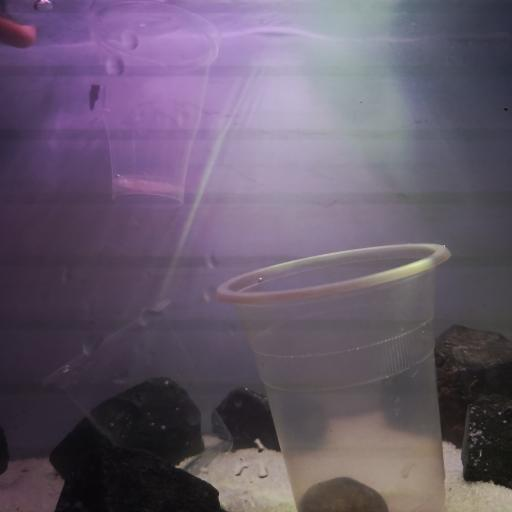plastic_cup: (215, 241, 453, 512), (38, 298, 234, 477), (87, 1, 221, 209)
